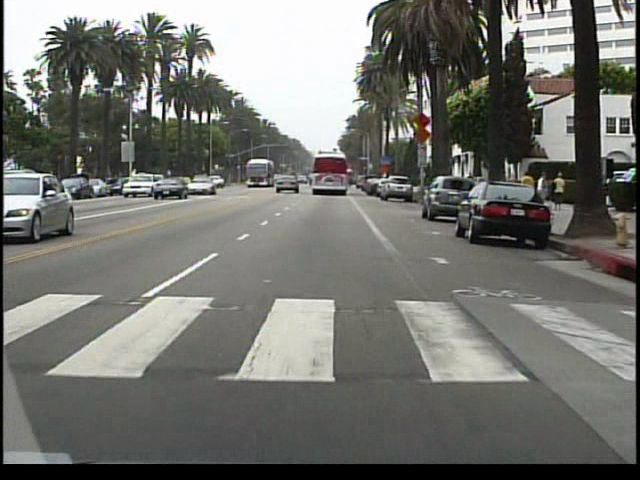person: (464, 171, 477, 201)
